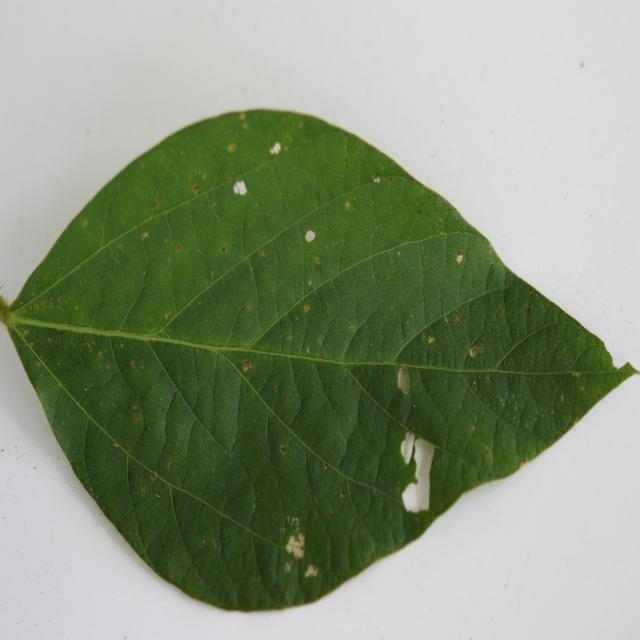Soybean: (0, 105, 640, 640)
downey_mildew: (431, 418, 618, 512), (525, 340, 633, 463), (428, 359, 552, 450), (246, 442, 302, 597), (16, 316, 235, 354), (212, 330, 294, 431), (416, 232, 500, 329), (127, 455, 183, 584), (82, 409, 134, 540), (433, 392, 497, 494), (212, 478, 264, 600), (335, 451, 389, 563), (308, 346, 365, 451), (370, 411, 422, 525), (351, 181, 422, 264), (94, 230, 146, 330), (239, 183, 279, 310), (326, 233, 446, 275), (280, 134, 347, 208), (94, 376, 148, 459), (209, 161, 266, 235), (51, 373, 95, 466), (115, 336, 167, 412), (388, 236, 430, 329), (207, 353, 243, 452), (158, 391, 198, 480), (571, 254, 624, 320), (0, 456, 77, 496), (564, 338, 623, 388), (480, 366, 620, 380), (315, 356, 427, 372), (185, 168, 209, 191), (248, 262, 258, 287), (15, 451, 27, 462), (234, 183, 241, 195), (241, 122, 248, 130), (509, 392, 515, 401), (23, 331, 29, 338), (29, 341, 35, 348), (471, 425, 477, 432), (298, 121, 304, 128), (559, 394, 564, 402), (202, 172, 207, 180), (316, 257, 321, 265), (329, 507, 333, 516), (350, 325, 356, 331), (31, 291, 36, 297), (47, 338, 52, 344), (133, 404, 138, 410), (159, 195, 164, 201), (580, 385, 585, 391), (60, 330, 64, 337), (308, 279, 312, 286), (106, 364, 110, 370), (37, 362, 41, 368), (355, 287, 359, 293), (111, 252, 115, 258), (357, 375, 361, 381), (177, 245, 181, 251), (119, 244, 123, 249), (92, 334, 96, 339), (75, 305, 79, 310), (153, 202, 157, 207), (419, 210, 422, 215), (50, 305, 53, 310), (349, 376, 352, 381), (57, 362, 60, 366)
